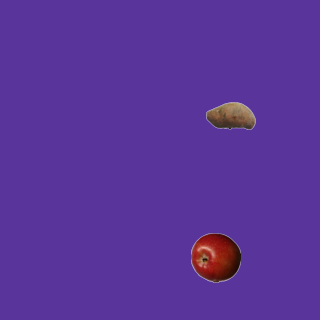Apple Braeburn: (190, 232, 240, 282)
Potato Sweet: (205, 90, 255, 140)
